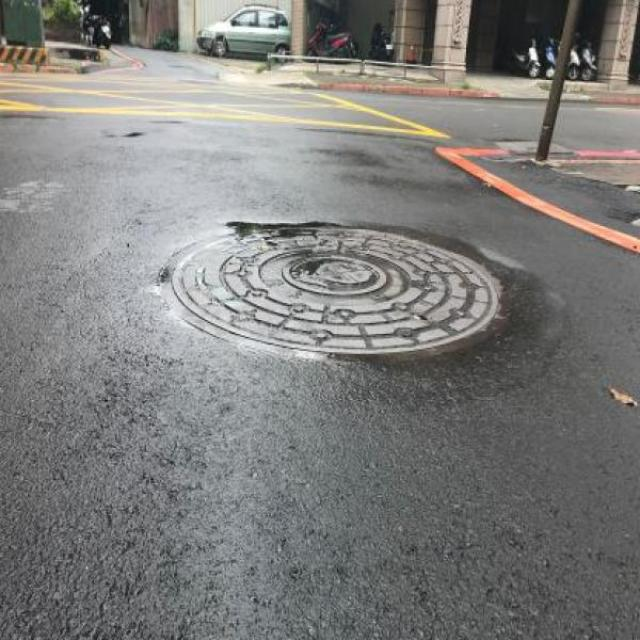Good: (154, 220, 514, 363)
